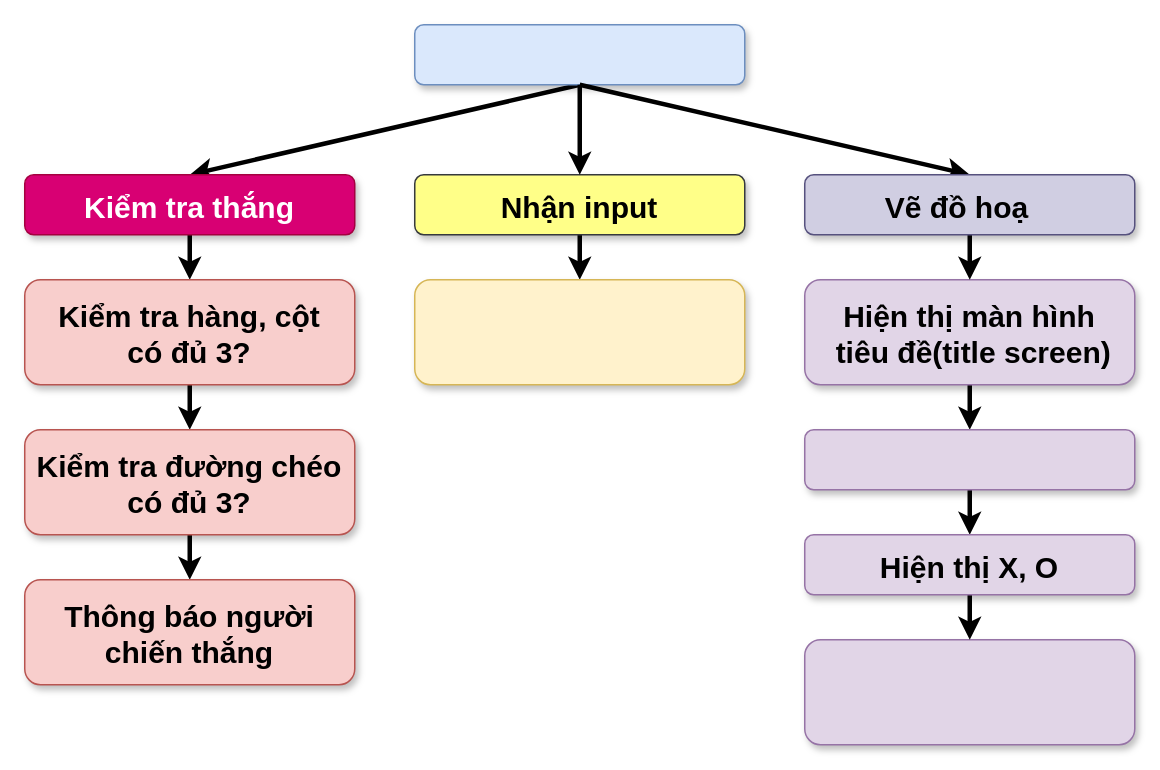
Some shapes in this 1160 by 770 pixel diagram are drawn without their labels. The shapes that lost their labels are listed below. From the top down, each one's centre as x and y in pixels, then its label:
At pixel 580 56: "TIC TAC TOE".
At pixel 580 333: "Nhận thấy chuột trái được nhấn: chọn, đi".
At pixel 970 461: "Hiện thị bàn chơi".
At pixel 970 693: "Hiện thị kết quả và thể hiện người thắng".
